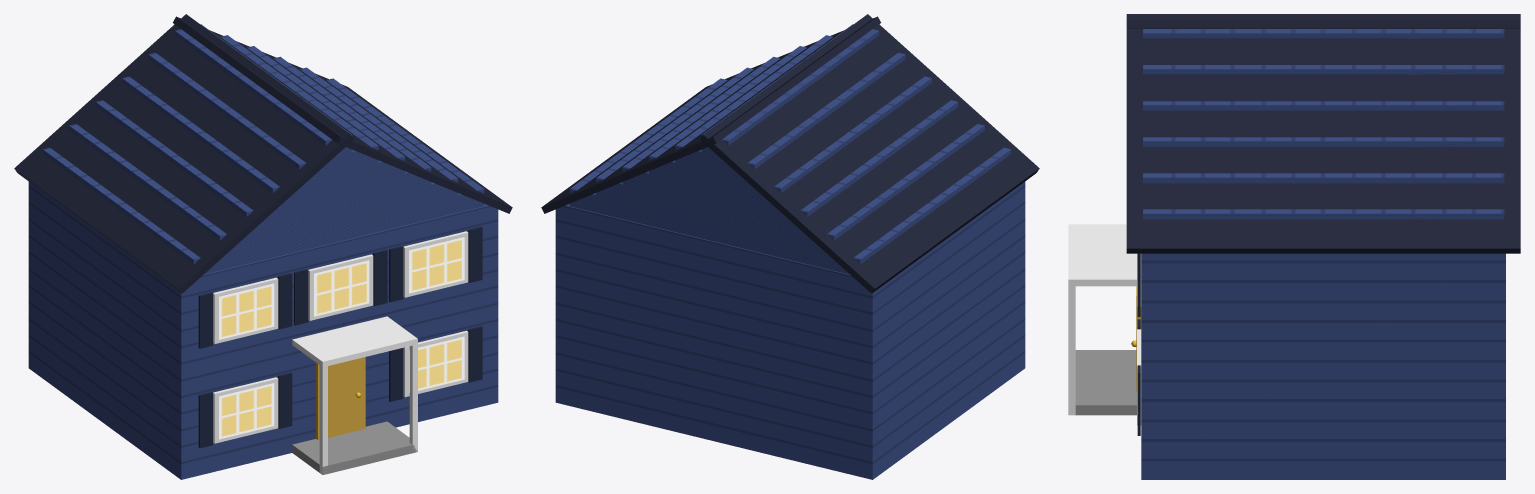
File: house_navy_night.glb
The picture shows the model from 3 angles, left to right: view 1: azimuth 30°, elevation 25°; view 2: azimuth 150°, elevation 25°; view 3: azimuth 270°, elevation 25°; orthographic projection. The views are drawn at different scales.
Visible parts, largest first — view 1: house_navy_night; view 2: house_navy_night; view 3: house_navy_night.
Part boxes in pixels (x1,y1,x2,y2): house_navy_night: (14, 14, 512, 479); house_navy_night: (541, 14, 1039, 479); house_navy_night: (1068, 14, 1520, 479).
Bounding box in the file's own units: 6.32 × 5.6 × 6.2.
Materials: 8 (2 with a texture image).
